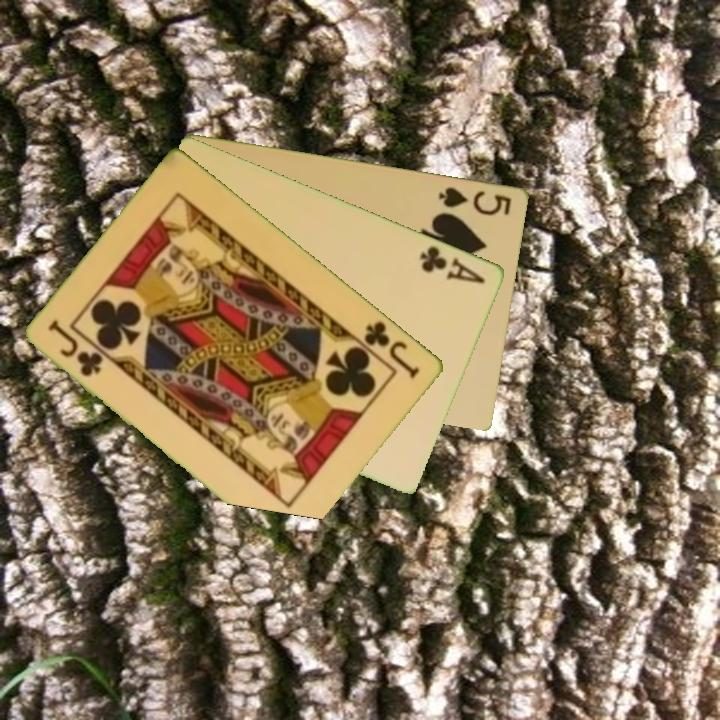5s: (435, 183, 515, 218)
Ac: (416, 242, 489, 287)
Jc: (361, 317, 424, 381), (45, 316, 107, 380)
